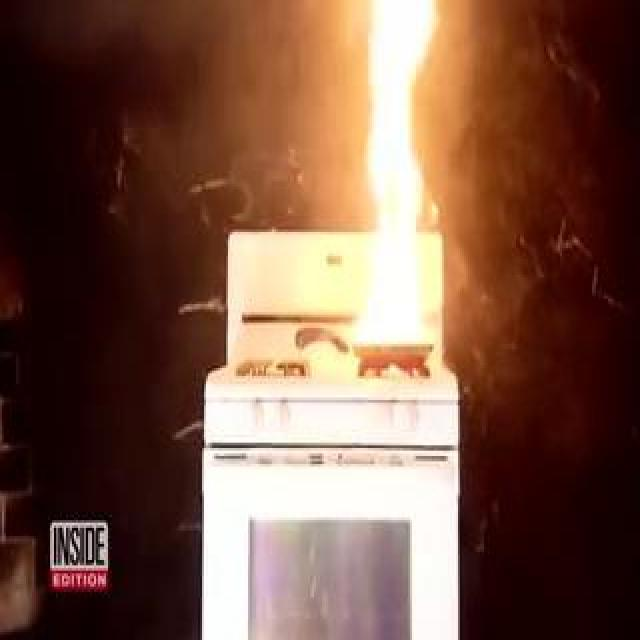Fire: (325, 3, 461, 357)
